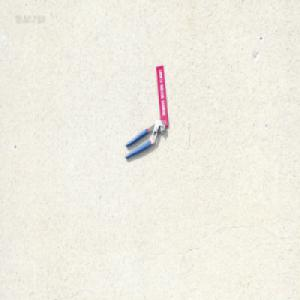Label: (155, 64, 169, 126)
Pliers: (124, 117, 166, 159)
